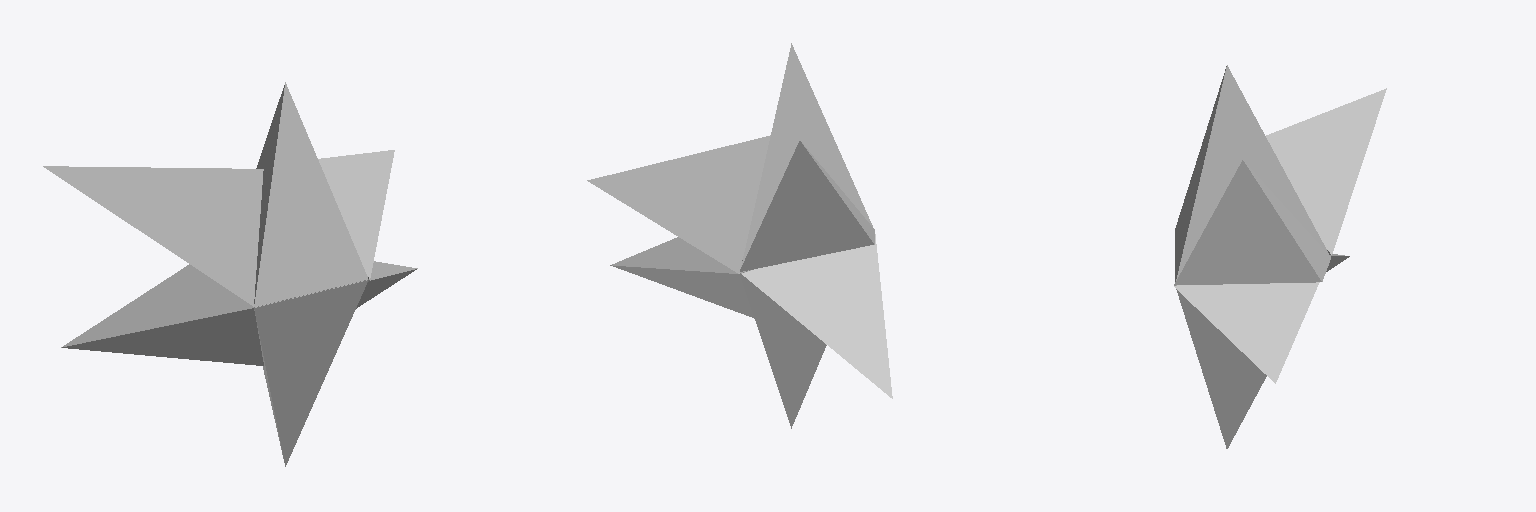
File: bigger_snowflake.obj
The picture shows the model from 3 angles: view 1: azimuth 30°, elevation 25°; view 2: azimuth 150°, elevation 25°; view 3: azimuth 270°, elevation 25°; orthographic projection.
Parts seen in each view (by area): view 1: Cone.005_Cone.008, Cone_Cone.002, Cone.002_Cone.005, Cone.001_Cone.004, Cone.004_Cone.007, Cone.003_Cone.006; view 2: Cone.004_Cone.007, Cone.002_Cone.005, Cone.005_Cone.008, Cone_Cone.002, Cone.001_Cone.004, Cone.003_Cone.006; view 3: Cone.004_Cone.007, Cone_Cone.002, Cone.005_Cone.008, Cone.003_Cone.006, Cone.001_Cone.004.
Part boxes in pixels (bbox=[...]): Cone.005_Cone.008: bbox=[43, 166, 263, 306]; Cone_Cone.002: bbox=[254, 82, 367, 307]; Cone.002_Cone.005: bbox=[61, 264, 263, 365]; Cone.001_Cone.004: bbox=[254, 279, 368, 466]; Cone.004_Cone.007: bbox=[318, 150, 394, 278]; Cone.003_Cone.006: bbox=[356, 261, 417, 308]; Cone.004_Cone.007: bbox=[587, 135, 770, 273]; Cone.002_Cone.005: bbox=[742, 234, 892, 398]; Cone.005_Cone.008: bbox=[740, 141, 874, 271]; Cone_Cone.002: bbox=[740, 43, 872, 273]; Cone.001_Cone.004: bbox=[739, 269, 826, 428]; Cone.003_Cone.006: bbox=[610, 237, 754, 318]; Cone.004_Cone.007: bbox=[1174, 160, 1330, 285]; Cone_Cone.002: bbox=[1175, 65, 1330, 285]; Cone.005_Cone.008: bbox=[1266, 88, 1386, 254]; Cone.003_Cone.006: bbox=[1174, 282, 1319, 383]; Cone.001_Cone.004: bbox=[1176, 289, 1266, 448].
Size of the model in its own units: 0.2943 by 0.3386 by 0.1705.